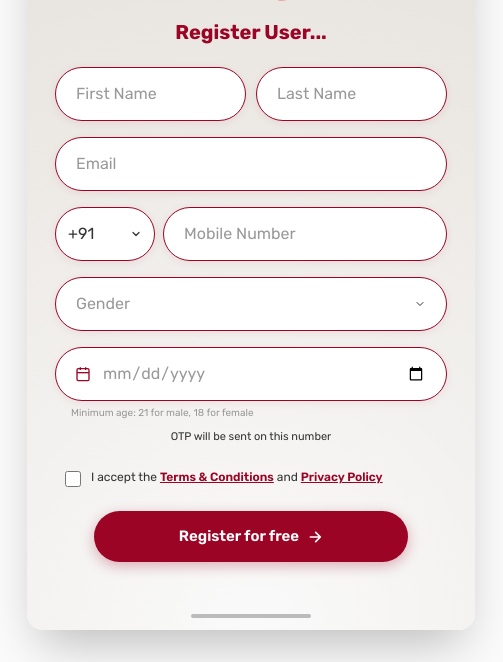
Test: RegisterUser – Step 1 form › shows gender validation error when not selected
This screenshot has width=503, height=662.
(page scrolled)
Type "Rahul" into the field with placeholder "First Name" at (150, 94), box [55,67,246,121]
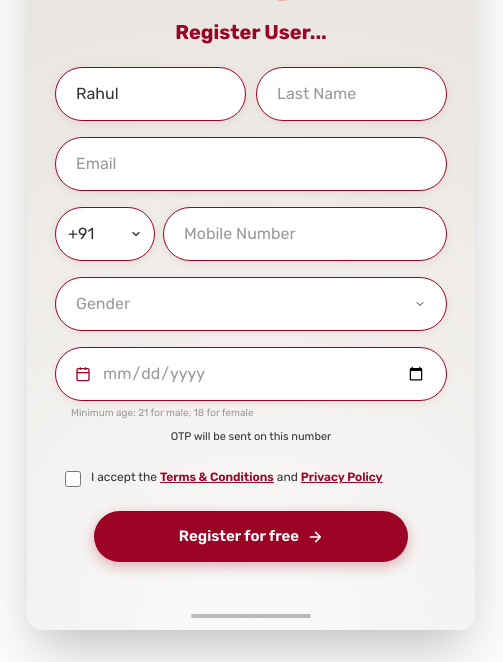
Type "Sharma" into the field with placeholder "Last Name" at (352, 94), box [256,67,447,121]
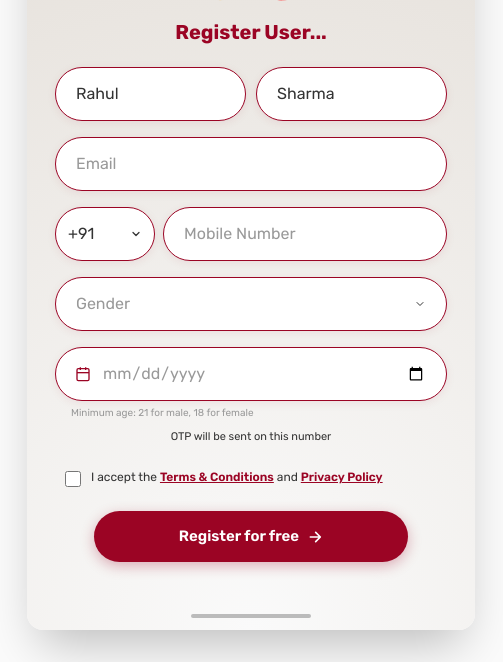
Type "9876543210" into the field with placeholder "Mobile Number" at (305, 234), box [163,207,447,261]
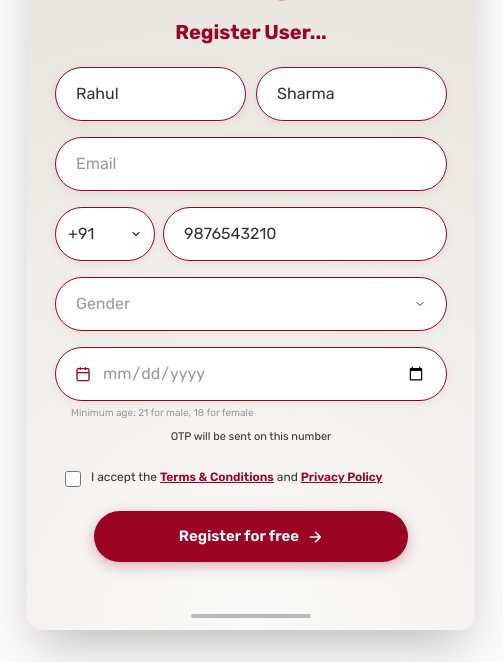
Click the button "Register for free" at (251, 537), box [94,511,408,562]
(page scrolled)
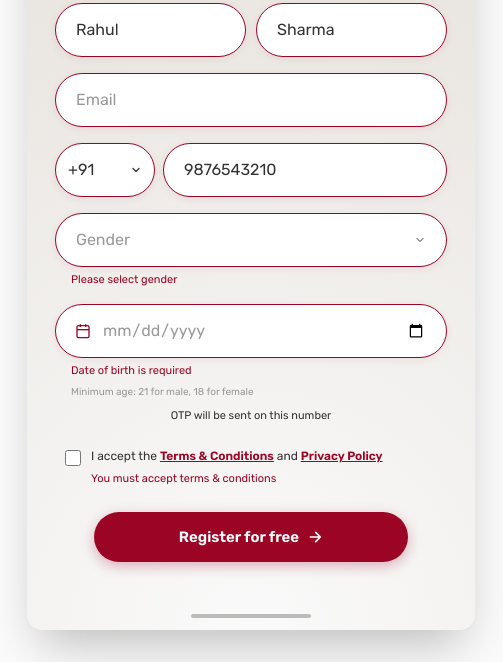
Check: the text "Please select gender" is shown, box [71,273,177,286]
